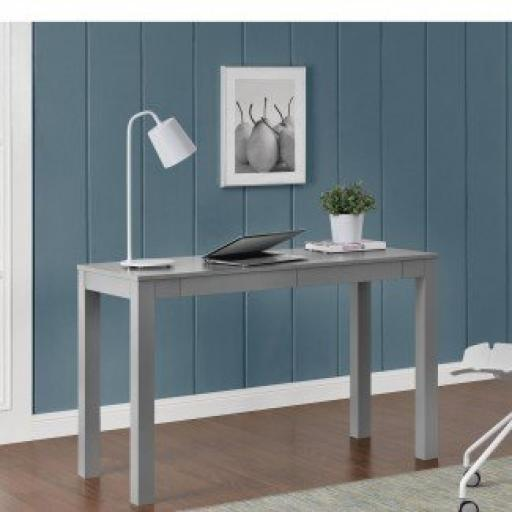desk: (76, 242, 440, 506)
wall: (0, 22, 510, 446)
